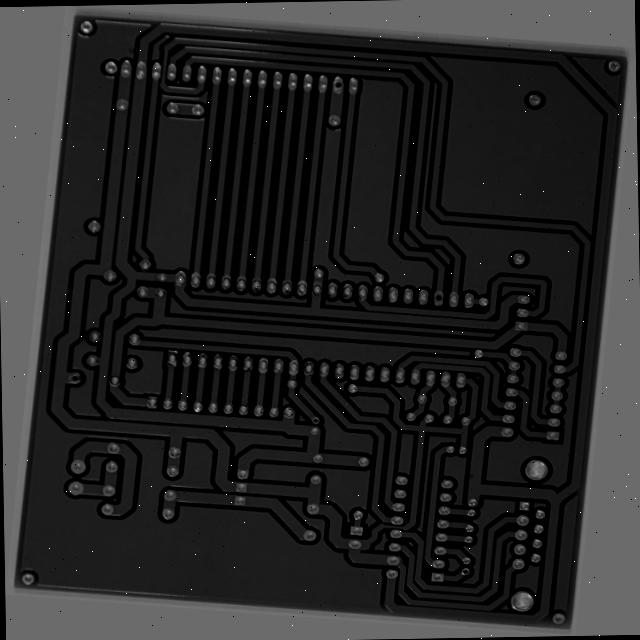missing_hole: (297, 55, 318, 70), (44, 397, 63, 413), (437, 276, 458, 290), (506, 568, 522, 581), (320, 420, 335, 433)
